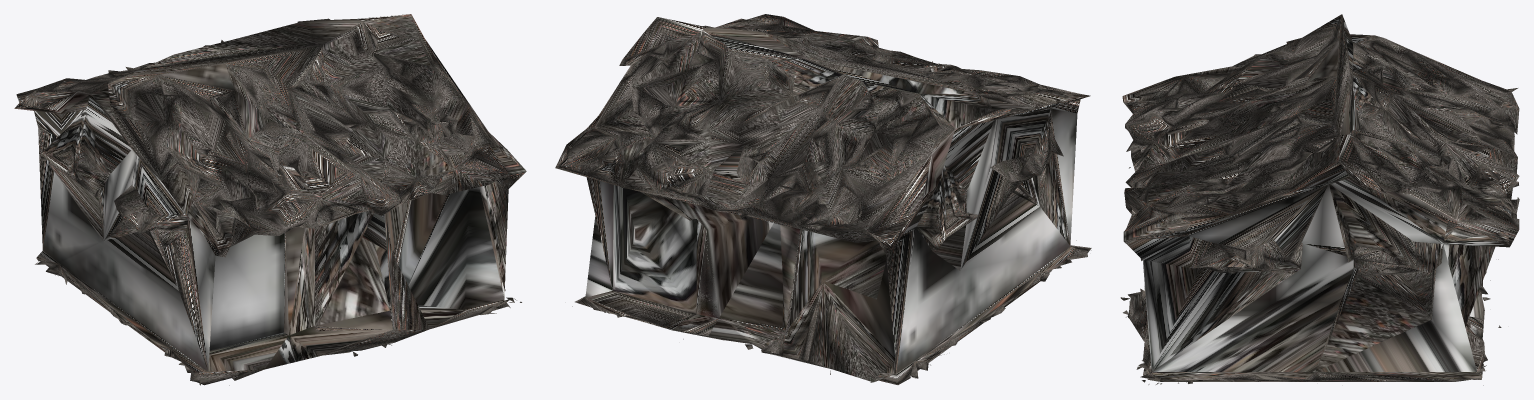
The model's file is bq_house_tiled.lod2.glb.
3 views of the same model, side by side, from view 1: azimuth 30°, elevation 25°; view 2: azimuth 150°, elevation 25°; view 3: azimuth 270°, elevation 25° (orthographic). The views are drawn at different scales.
Size of the model in its own units: 1.96 by 1.29 by 1.99.
Materials: 1 (1 with a texture image).
